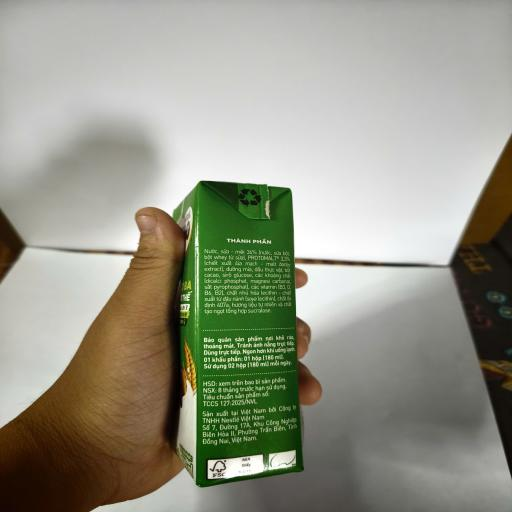milo: (172, 180, 304, 488)
